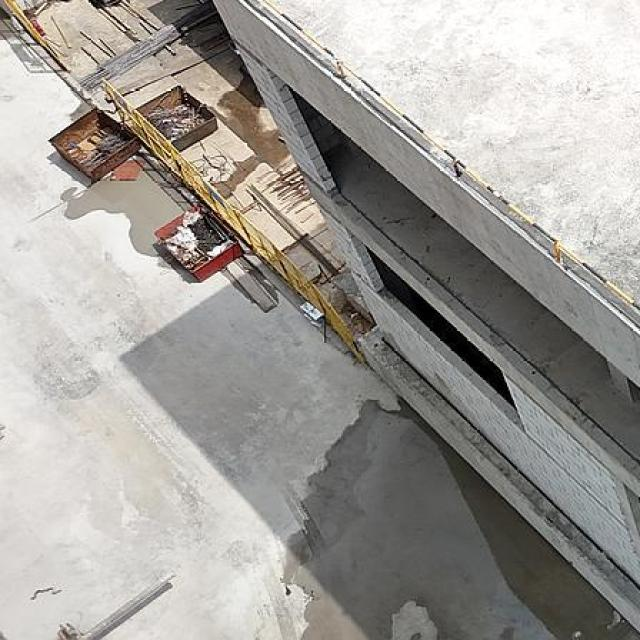Guardrail: (260, 0, 640, 311)
